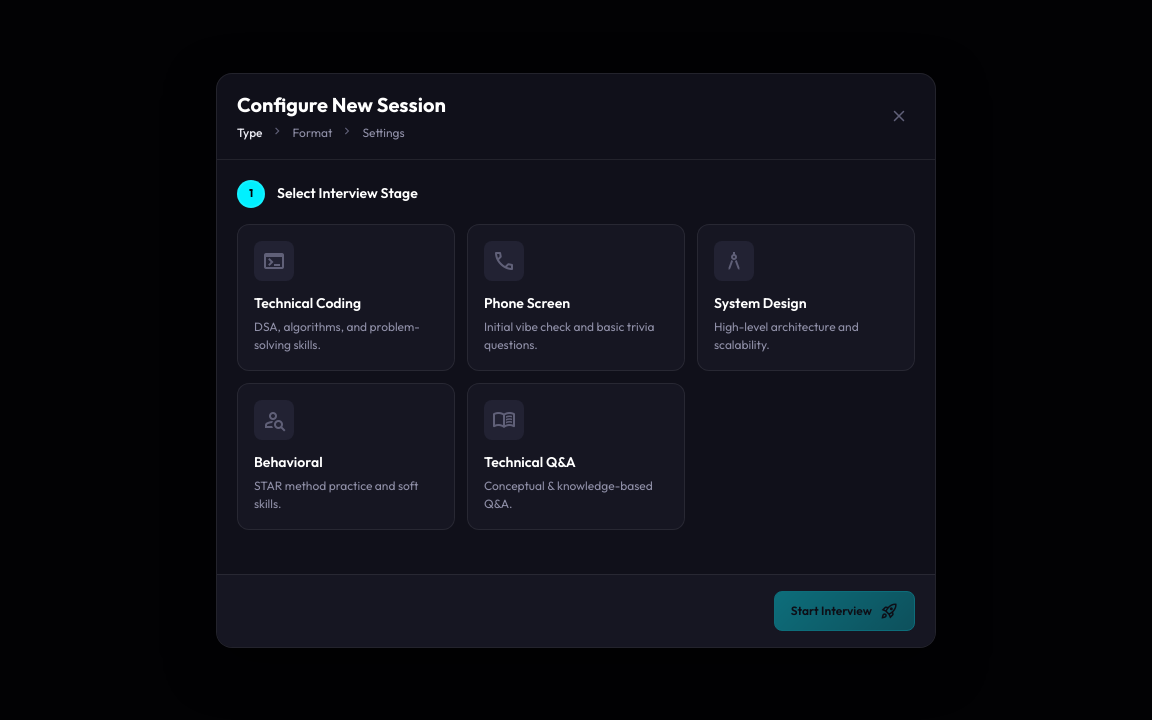
Scenario: InterviewLauncher › Behavioral stage › selecting Behavioral enables Start Interview
This screenshot has width=1152, height=720.
What coordinates should you click on to do the following:
click the text "Behavioral"
I would click on:
 (288, 462)
Its box is [254, 452, 323, 470].
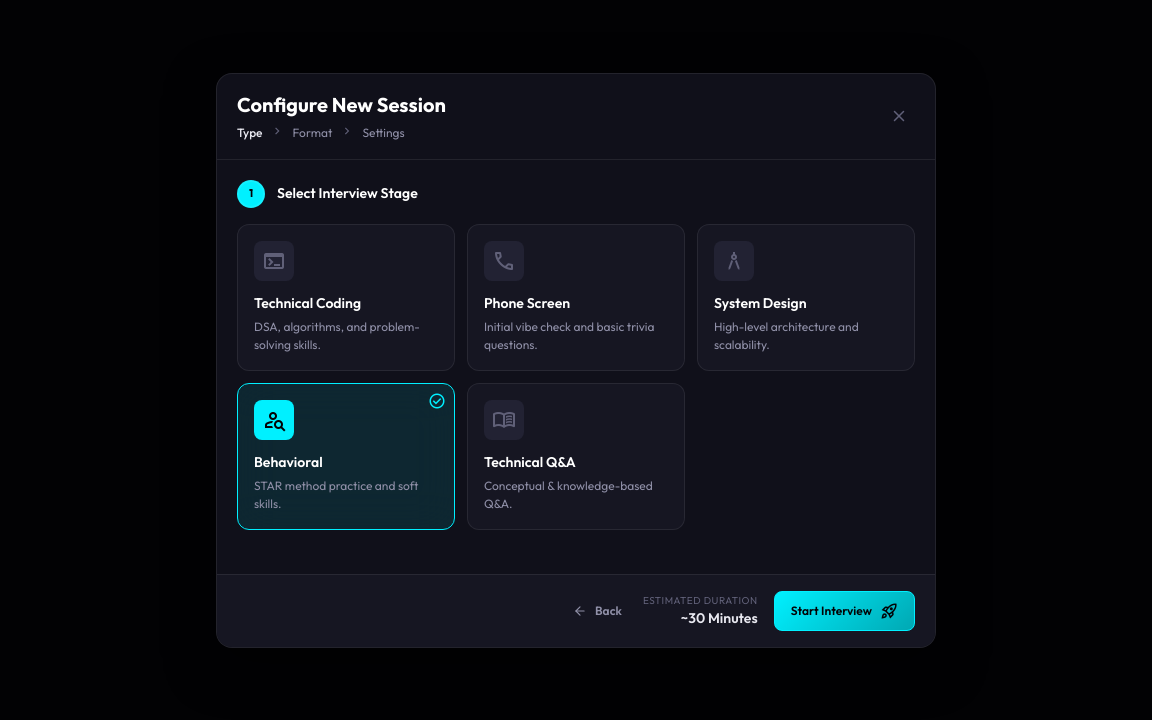
expect the button "Start Interview" is enabled: met, box [774, 590, 915, 630]
